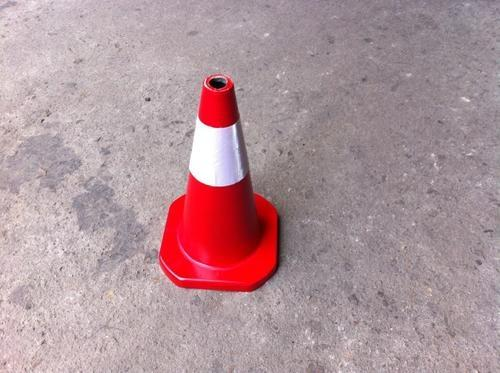cone_barrel: (158, 72, 273, 284)
